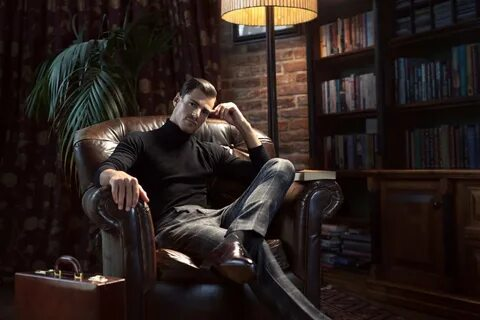awake: (119, 76, 299, 286)
